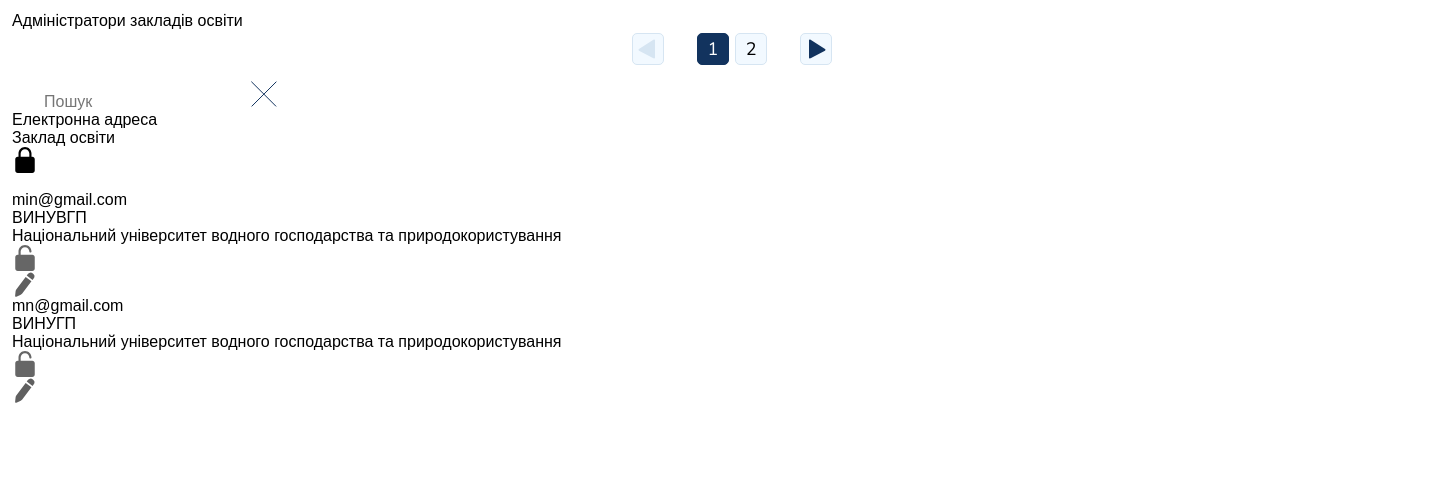
Test: check SuperAdminAccount component › check fetchInstitutionOfEducationesAdmins error from server
This screenshot has width=1452, height=479.
Click the 1st list item with test id "setBunStatus": (25, 258) [12,245,38,271]
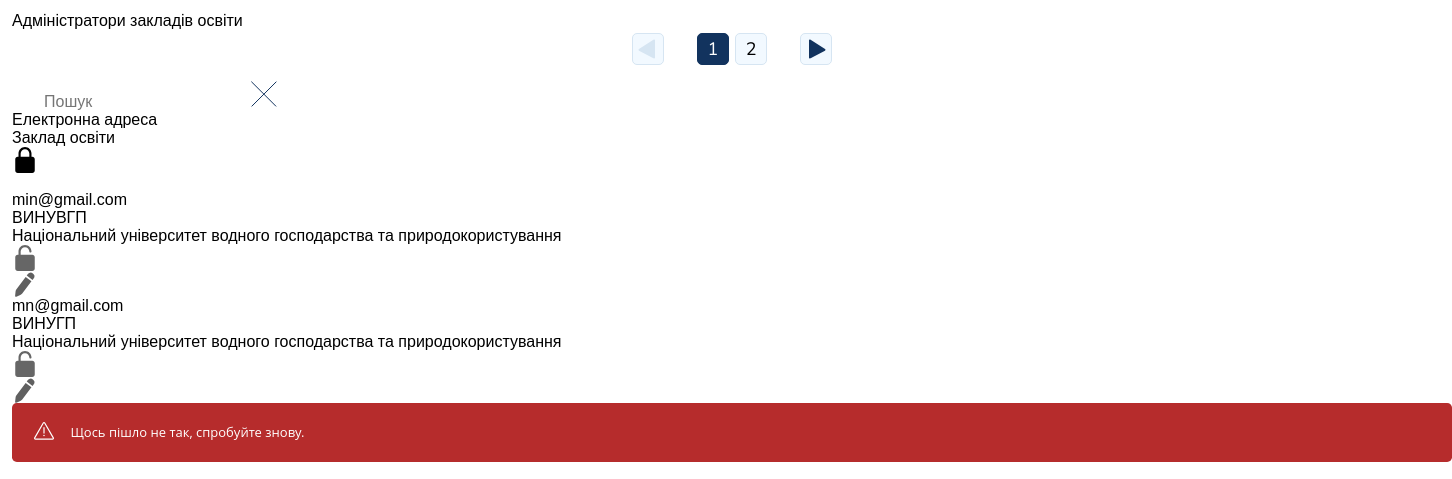
Now the text "Щось пішло не так, спробуйте знову." is shown, box [70,423,304,441]
